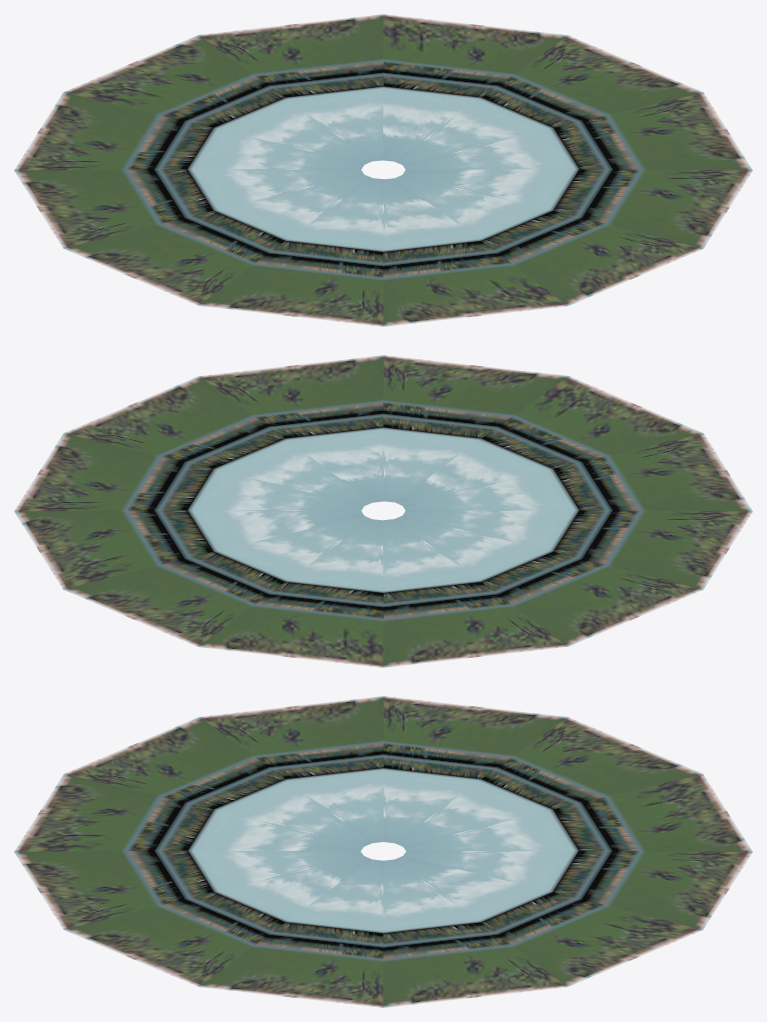
The picture shows the model from 3 angles, top to bottom: view 1: azimuth 30°, elevation 25°; view 2: azimuth 150°, elevation 25°; view 3: azimuth 270°, elevation 25°; orthographic projection.
Parts seen in each view (by area): view 1: mesh00; view 2: mesh00; view 3: mesh00.
Part boxes in pixels (x1=…): mesh00: x1=14, y1=14, x2=752, y2=326; mesh00: x1=14, y1=355, x2=752, y2=667; mesh00: x1=14, y1=696, x2=752, y2=1007.
Size of the model in its own units: 977 by 1.87 by 979.
